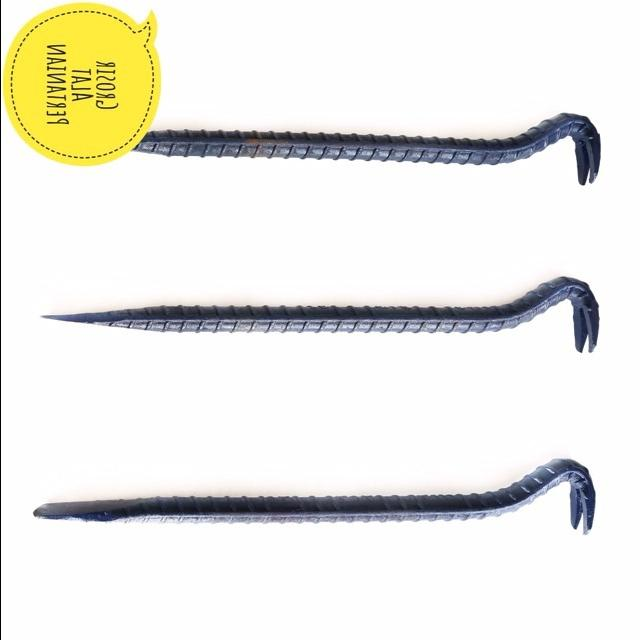Linggis: (35, 455, 598, 547)
